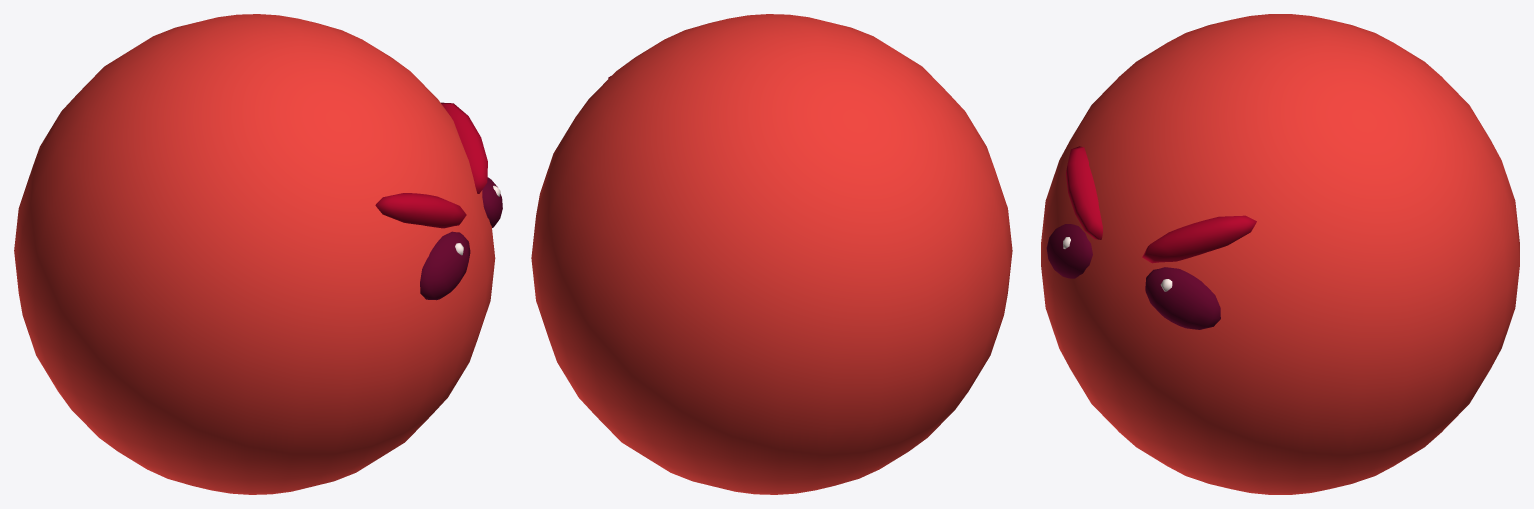
The model's file is red.glb.
The picture shows the model from 3 angles, left to right: view 1: azimuth 30°, elevation 25°; view 2: azimuth 150°, elevation 25°; view 3: azimuth 270°, elevation 25°; orthographic projection.
Parts seen in each view (by area): view 1: red; view 2: red; view 3: red.
Boxes of the visible parts, x1,y1,x2,y2 form: red: [14, 14, 502, 494]; red: [531, 14, 1012, 494]; red: [1041, 14, 1519, 494].
Bounding box in the file's own units: 0.4372 × 0.44 × 0.4372.
